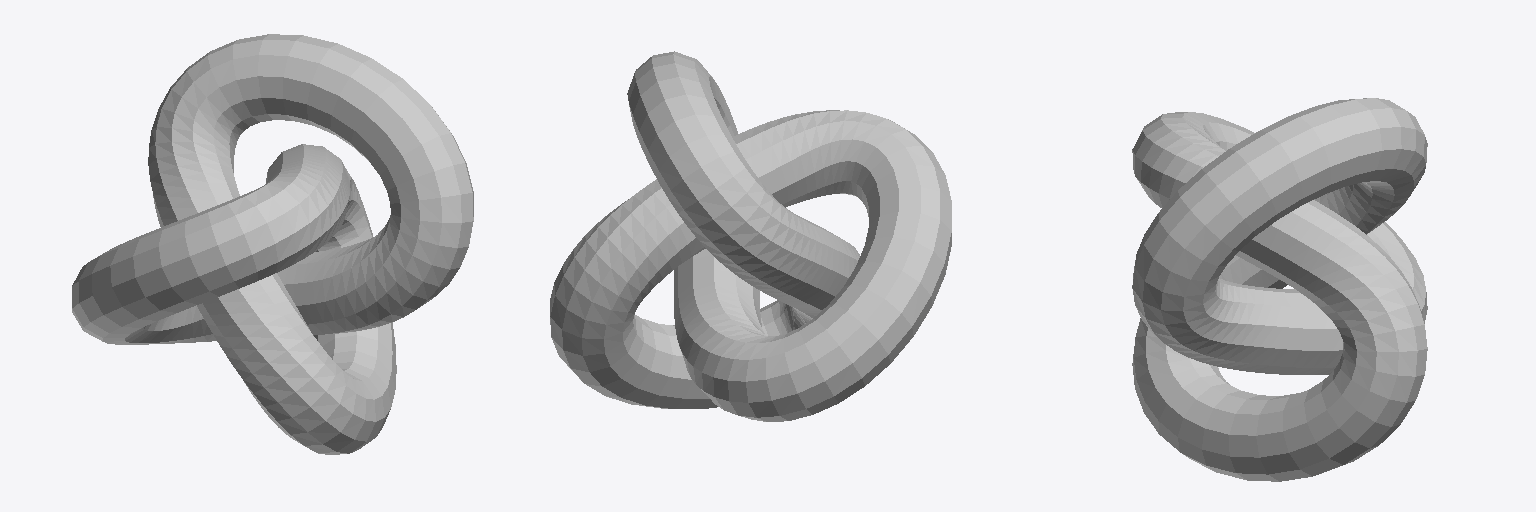
File: torusknot2.obj
The picture shows the model from 3 angles: view 1: azimuth 30°, elevation 25°; view 2: azimuth 150°, elevation 25°; view 3: azimuth 270°, elevation 25°; orthographic projection.
Parts seen in each view (by area): view 1: Torus_Knot01; view 2: Torus_Knot01; view 3: Torus_Knot01.
Part boxes in pixels (bbox=[...]): Torus_Knot01: bbox=[72, 34, 473, 454]; Torus_Knot01: bbox=[550, 51, 951, 421]; Torus_Knot01: bbox=[1132, 98, 1427, 481].
Bounding box in the file's own units: 12.68 × 13.47 × 9.93.